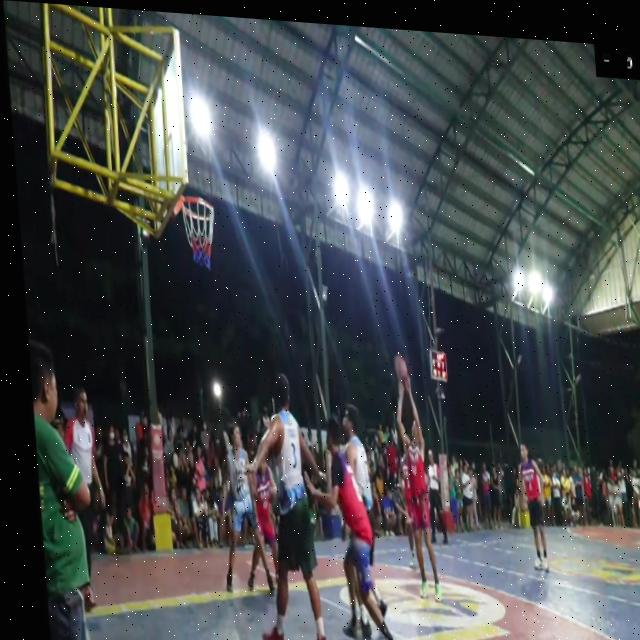basketball: (391, 344, 412, 390)
hoop: (178, 187, 221, 276)
